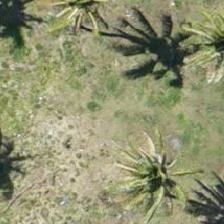coconut_tree: (123, 128, 213, 218), (35, 0, 125, 50), (175, 6, 223, 96)
